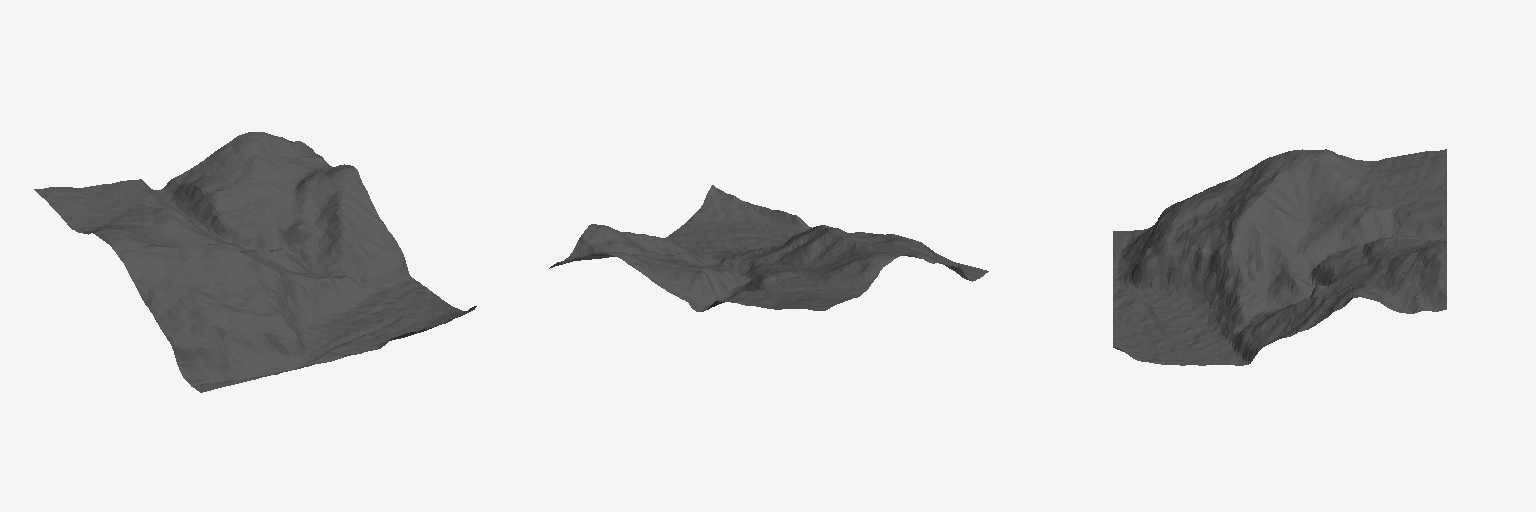
Rendered from mountain-mesh-low-poly.obj.
3 renders of one model, left to right at view 1: azimuth 30°, elevation 25°; view 2: azimuth 150°, elevation 25°; view 3: azimuth 270°, elevation 25°, orthographic.
Parts seen in each view (by area): view 1: ter; view 2: ter; view 3: ter.
Boxes of the visible parts, <box> form: ter: <box>34,132,476,392</box>; ter: <box>549,185,988,311</box>; ter: <box>1113,149,1446,365</box>.
Bounding box in the file's own units: 95.93 × 29.17 × 100.